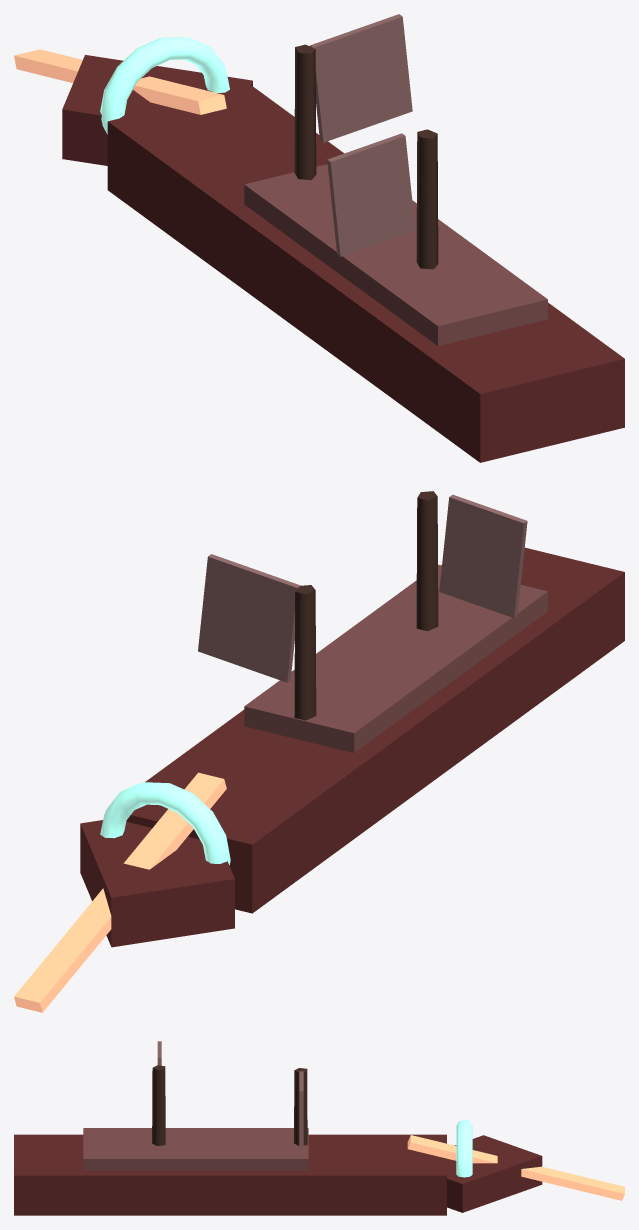
File: ship_main_55_lod2.glb
The picture shows the model from 3 angles, top to bottom: view 1: azimuth 30°, elevation 25°; view 2: azimuth 150°, elevation 25°; view 3: azimuth 270°, elevation 25°; orthographic projection. The views are drawn at different scales.
Visible parts, largest first — view 1: Hull, Deck_0, Sail_0, Sail_1, Bow, OpenCrescentProw, ProwIdentity, Mast_1, Mast_0; view 2: Hull, Deck_0, Bow, Sail_0, Sail_1, ProwIdentity, OpenCrescentProw, Mast_1, Mast_0; view 3: Hull, Deck_0, Bow, ProwIdentity, Mast_1, OpenCrescentProw, Mast_0, Sail_0.
Part boxes in pixels (x1,y1,x2,y2): Hull: [107, 86, 624, 462]; Deck_0: [244, 164, 547, 345]; Sail_0: [310, 14, 412, 142]; Sail_1: [327, 133, 415, 256]; Bow: [62, 55, 252, 165]; OpenCrescentProw: [100, 37, 229, 134]; ProwIdentity: [14, 49, 226, 114]; Mast_1: [416, 129, 438, 269]; Mast_0: [294, 44, 316, 180]; Hull: [126, 547, 624, 913]; Deck_0: [244, 564, 547, 752]; Bow: [80, 820, 234, 947]; Sail_0: [198, 554, 300, 682]; Sail_1: [439, 494, 527, 617]; ProwIdentity: [14, 772, 226, 1012]; OpenCrescentProw: [100, 782, 230, 865]; Mast_1: [416, 491, 438, 631]; Mast_0: [294, 585, 316, 720]; Hull: [14, 1134, 446, 1215]; Deck_0: [83, 1128, 308, 1170]; Bow: [447, 1135, 542, 1212]; ProwIdentity: [407, 1135, 624, 1200]; Mast_1: [152, 1065, 165, 1145]; OpenCrescentProw: [456, 1119, 472, 1177]; Mast_0: [294, 1068, 307, 1145]; Sail_0: [299, 1071, 303, 1150].
Size of the model in its own units: 2.05 by 2.24 by 9.16.
